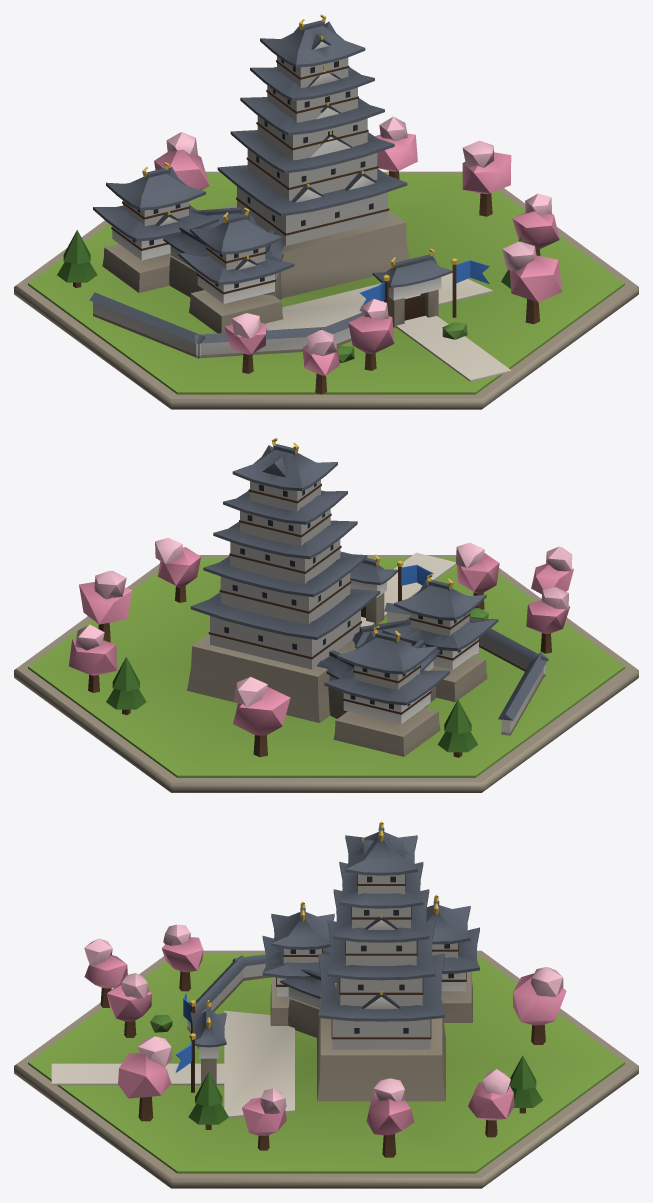
Rendered from w_himeji.glb.
The picture shows the model from 3 angles, top to bottom: view 1: azimuth 30°, elevation 25°; view 2: azimuth 150°, elevation 25°; view 3: azimuth 270°, elevation 25°; orthographic projection.
Visible parts, largest first — view 1: w_himeji; view 2: w_himeji; view 3: w_himeji.
Boxes of the visible parts, box(x1,y1,x2,y2) form: w_himeji: box(14, 14, 638, 409); w_himeji: box(14, 438, 638, 792); w_himeji: box(14, 821, 638, 1188).
Bounding box in the file's own units: 1.39 × 0.7193 × 1.59.
